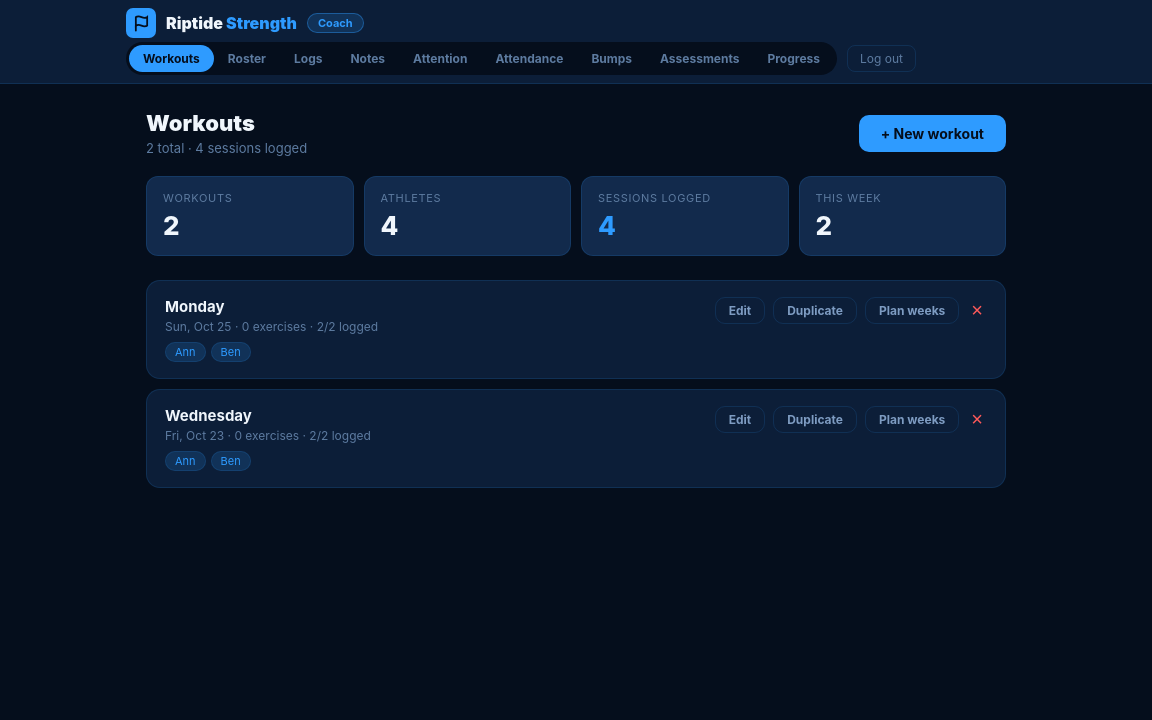
Test: needs attention tab › shows a clean state when everyone is on track
Click the button "attention" at (440, 58), box x1=399 y1=45 x2=481 y2=72
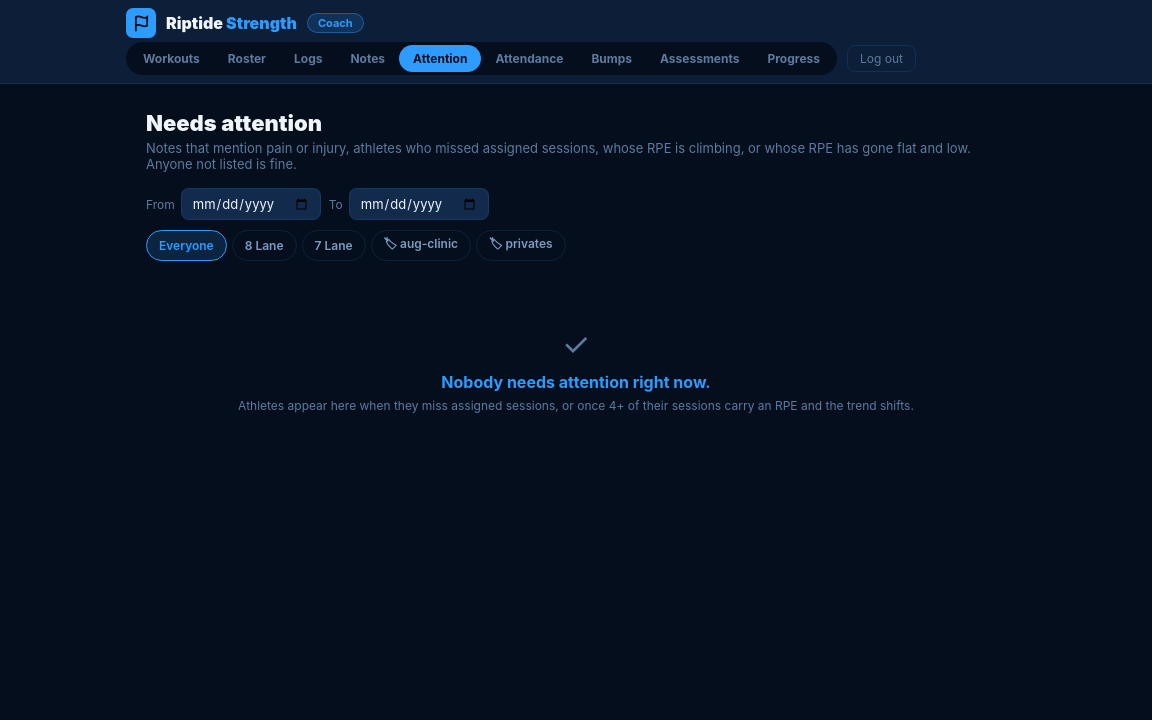
Now the text "Nobody needs attention right now." is shown, box x1=441 y1=372 x2=711 y2=392
